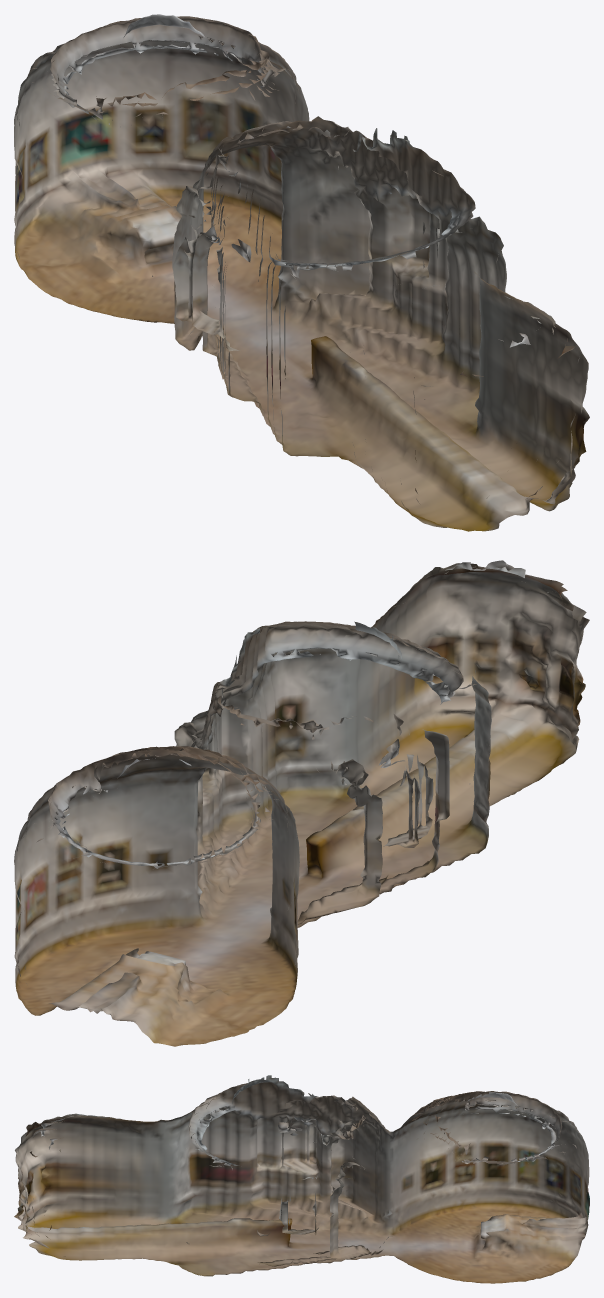
File: museum.glb
3 views of the same model, one above another, from view 1: azimuth 30°, elevation 25°; view 2: azimuth 150°, elevation 25°; view 3: azimuth 270°, elevation 25° (orthographic). The views are drawn at different scales.
Visible parts, largest first — view 1: world; view 2: world; view 3: world.
Part boxes in pixels (x1,y1,x2,y2): world: [14, 14, 589, 531]; world: [14, 560, 589, 1046]; world: [14, 1075, 589, 1283].
Bounding box in the file's own units: 7.7 × 6.06 × 20.68.
